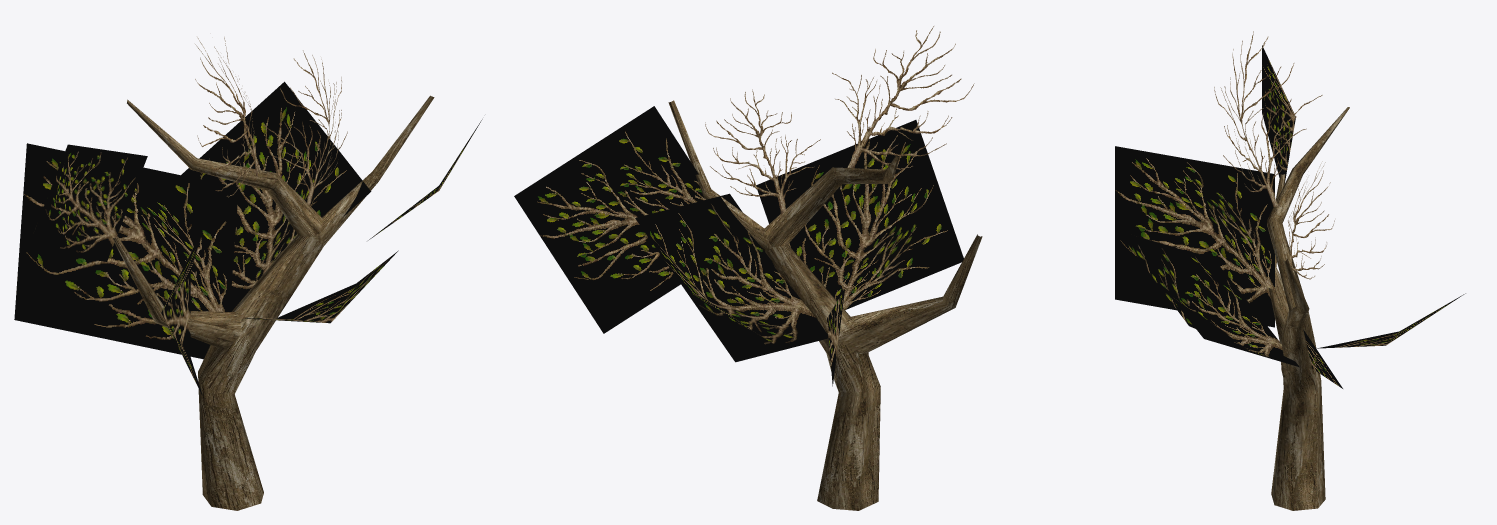
The model's file is w_cd_brhwood01_01.glb.
The picture shows the model from 3 angles, left to right: view 1: azimuth 30°, elevation 25°; view 2: azimuth 150°, elevation 25°; view 3: azimuth 270°, elevation 25°; orthographic projection. The views are drawn at different scales.
Parts seen in each view (by area): view 1: w_cd_brhWood01_02, w_cd_brhWood01_01, w_cd_brhWood01_03; view 2: w_cd_brhWood01_02, w_cd_brhWood01_01, w_cd_brhWood01_03; view 3: w_cd_brhWood01_02, w_cd_brhWood01_01, w_cd_brhWood01_03.
Part boxes in pixels (left/top/right/bottom): w_cd_brhWood01_02: left=14, top=81, right=482, bottom=395; w_cd_brhWood01_01: left=112, top=95, right=434, bottom=510; w_cd_brhWood01_03: left=195, top=37, right=347, bottom=205; w_cd_brhWood01_02: left=514, top=106, right=963, bottom=386; w_cd_brhWood01_01: left=668, top=100, right=982, bottom=510; w_cd_brhWood01_03: left=705, top=26, right=974, bottom=215; w_cd_brhWood01_02: left=1115, top=45, right=1465, bottom=388; w_cd_brhWood01_01: left=1267, top=107, right=1349, bottom=510; w_cd_brhWood01_03: left=1214, top=31, right=1334, bottom=279.
Bounding box in the file's own units: 27.6 × 25.03 × 18.54.
3 materials, 3 textured.
